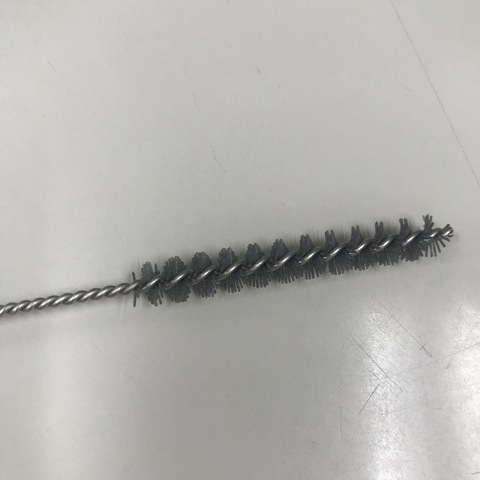Twist Brush-A: (1, 211, 464, 325)
